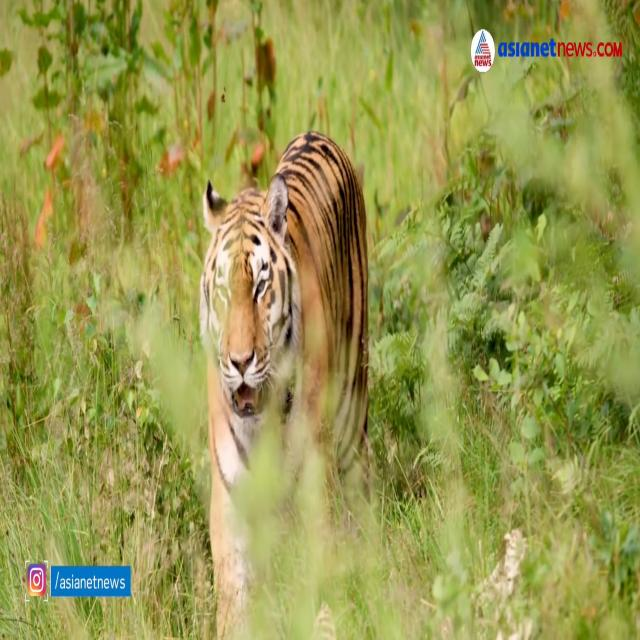TIGER: (185, 127, 393, 638)
